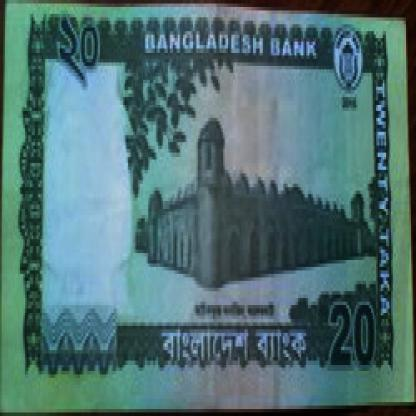Twenty: (326, 291, 383, 371), (57, 17, 110, 87)
